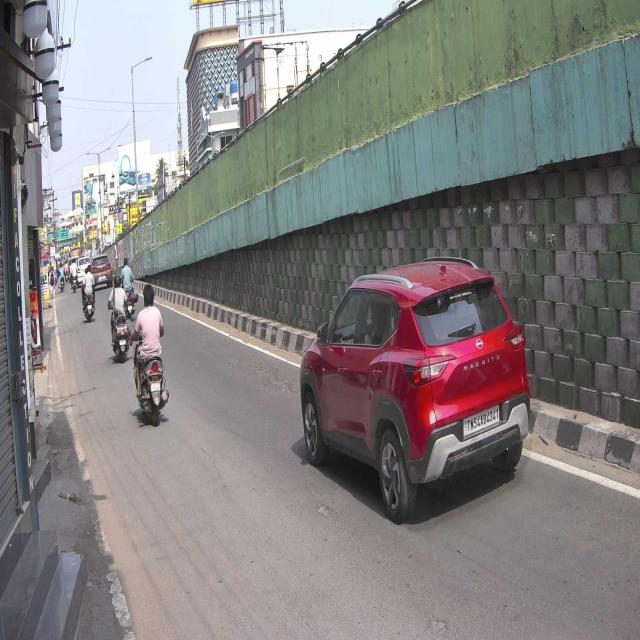single_rider: (132, 285, 170, 429)
